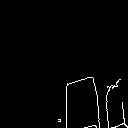cube: (42, 71, 101, 128)
